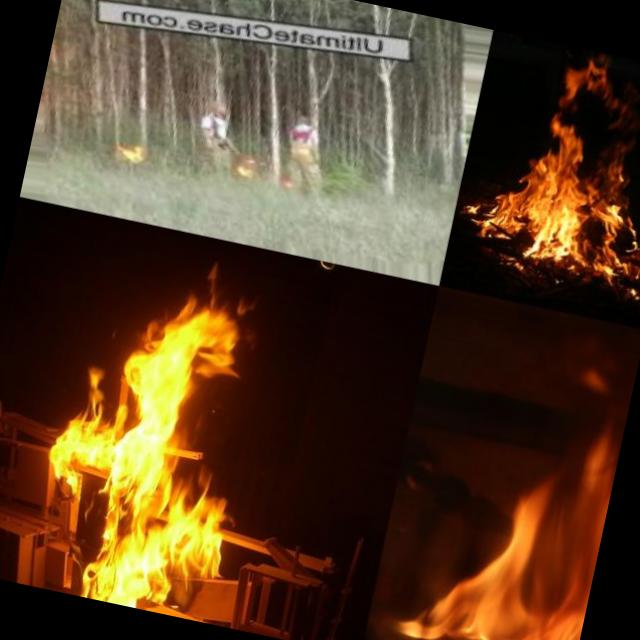fire: (20, 250, 284, 624), (398, 293, 640, 640), (460, 45, 640, 298), (115, 135, 154, 168), (234, 154, 262, 179)
